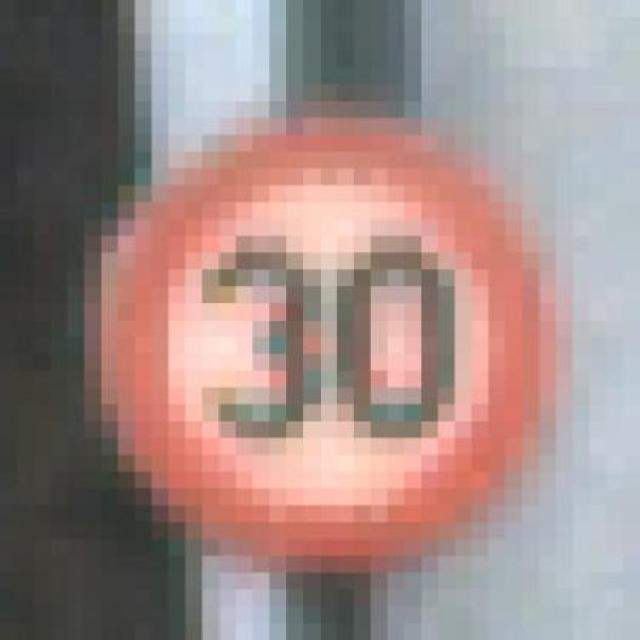forb_speed_over_30: (115, 130, 539, 561)
